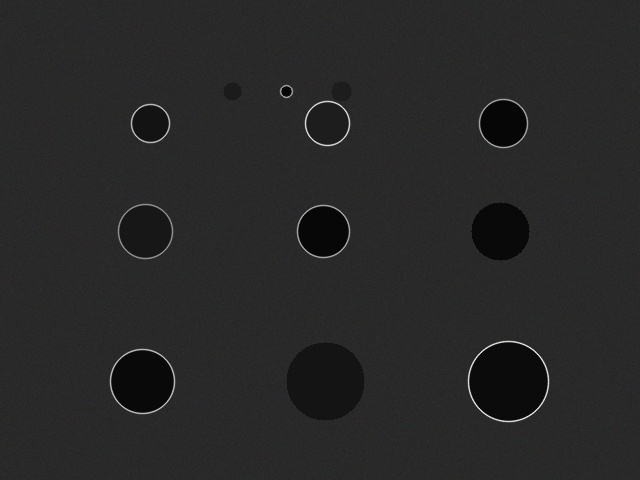hole: (468, 341, 548, 421), (286, 342, 364, 420), (110, 349, 174, 413), (471, 202, 529, 260), (118, 204, 172, 258), (297, 205, 349, 257), (479, 99, 527, 147), (305, 101, 349, 145), (131, 104, 169, 142), (331, 81, 351, 101), (223, 82, 241, 100), (280, 85, 292, 97)
